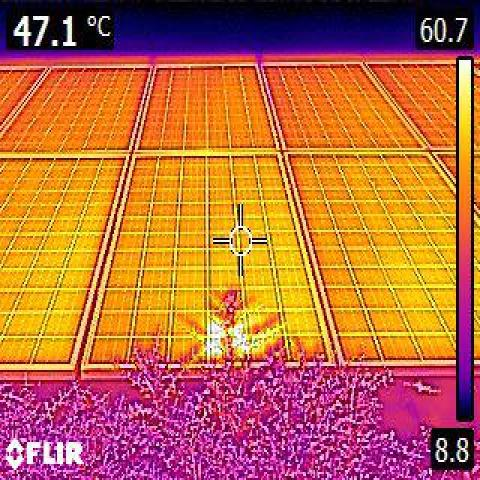fault: (208, 319, 243, 352)
